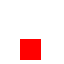square: (20, 39, 40, 59)
